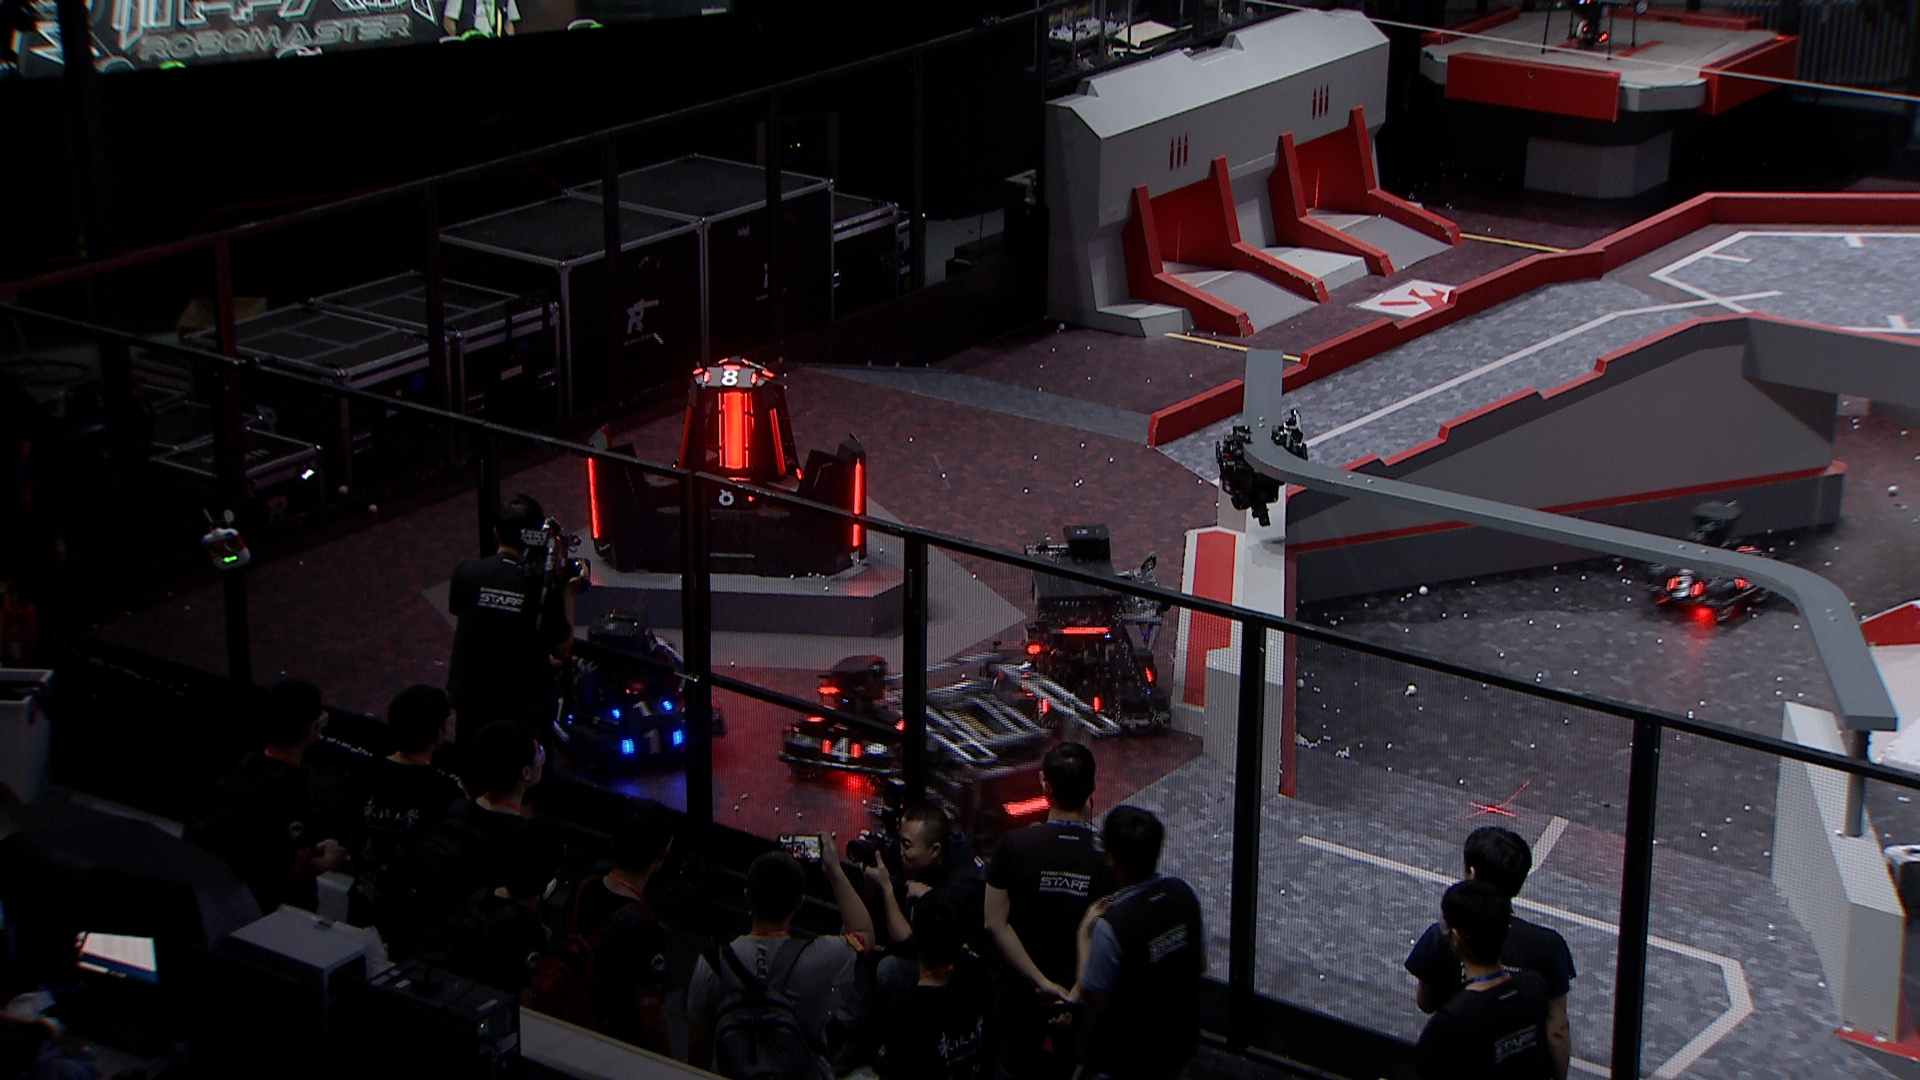armor: (713, 392, 761, 473), (622, 728, 684, 760), (765, 407, 790, 480), (585, 456, 605, 543), (1040, 690, 1102, 717), (609, 698, 674, 723), (674, 406, 695, 473), (851, 462, 866, 549), (820, 735, 865, 764), (699, 367, 761, 386), (1665, 575, 1706, 600), (547, 695, 575, 731), (711, 488, 760, 508), (1007, 657, 1033, 679)
base: (571, 357, 873, 583)
car: (855, 640, 1120, 891), (982, 517, 1176, 745), (537, 605, 723, 783), (775, 651, 924, 789), (1643, 498, 1785, 624)
watcher: (1215, 409, 1313, 527)
